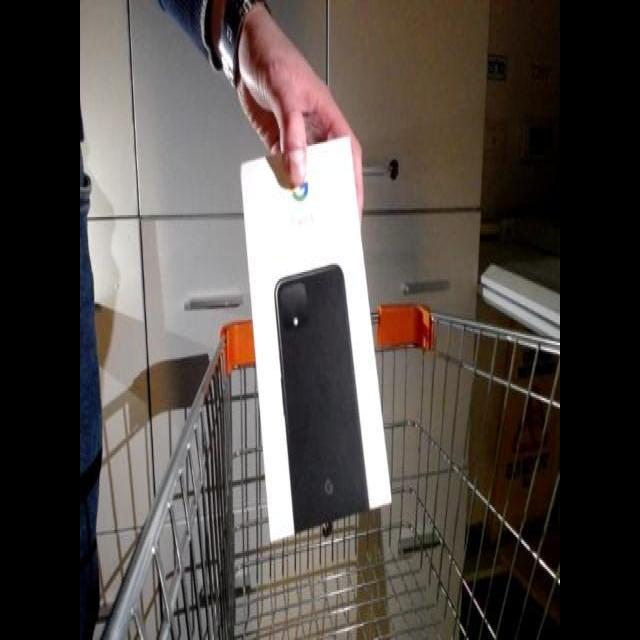Pixel 4: (222, 116, 414, 552)
